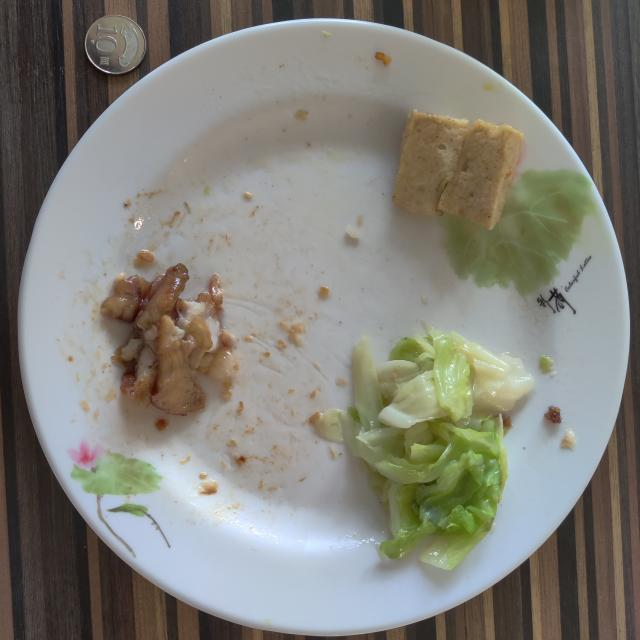Kabayaki sea bream fillet: (100, 264, 239, 415)
cabbage: (310, 328, 534, 569)
coin: (85, 15, 146, 75)
creamy tofu -without sauce-: (392, 110, 524, 229)
